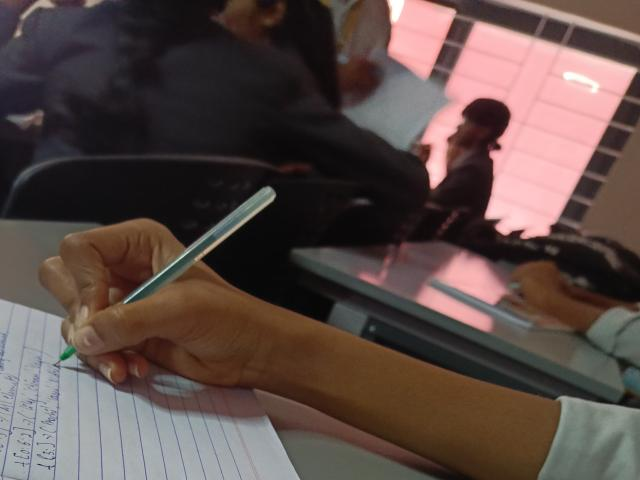PEN: (31, 167, 287, 376)
